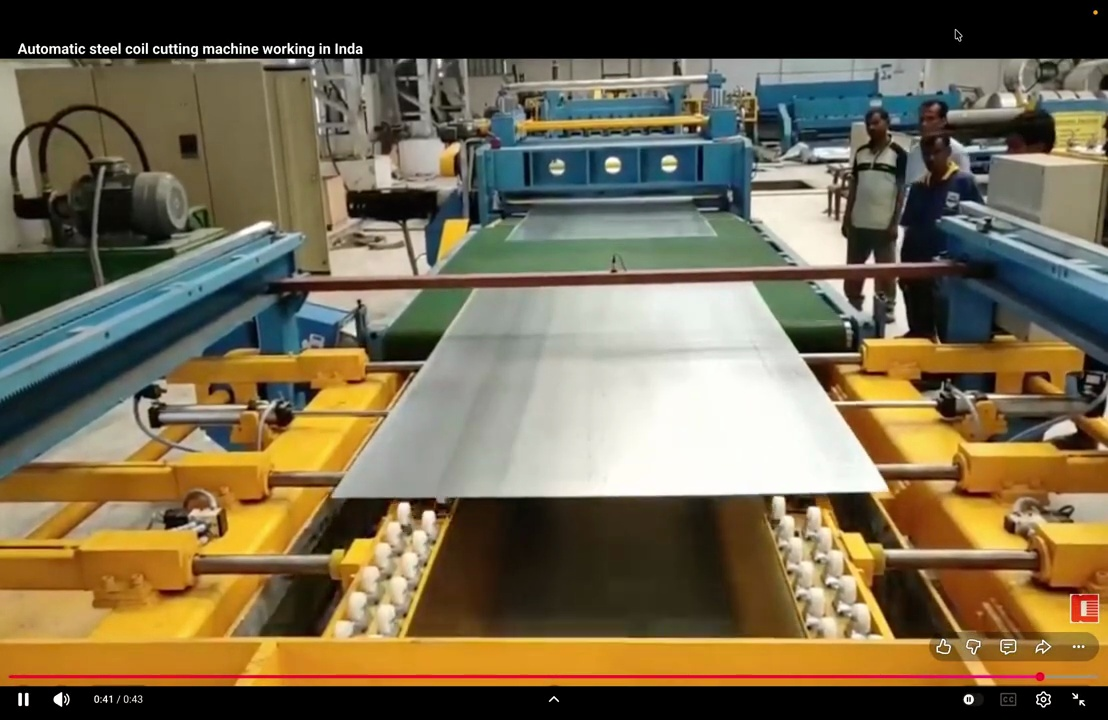steel plate: (334, 284, 885, 498), (508, 202, 715, 241)
